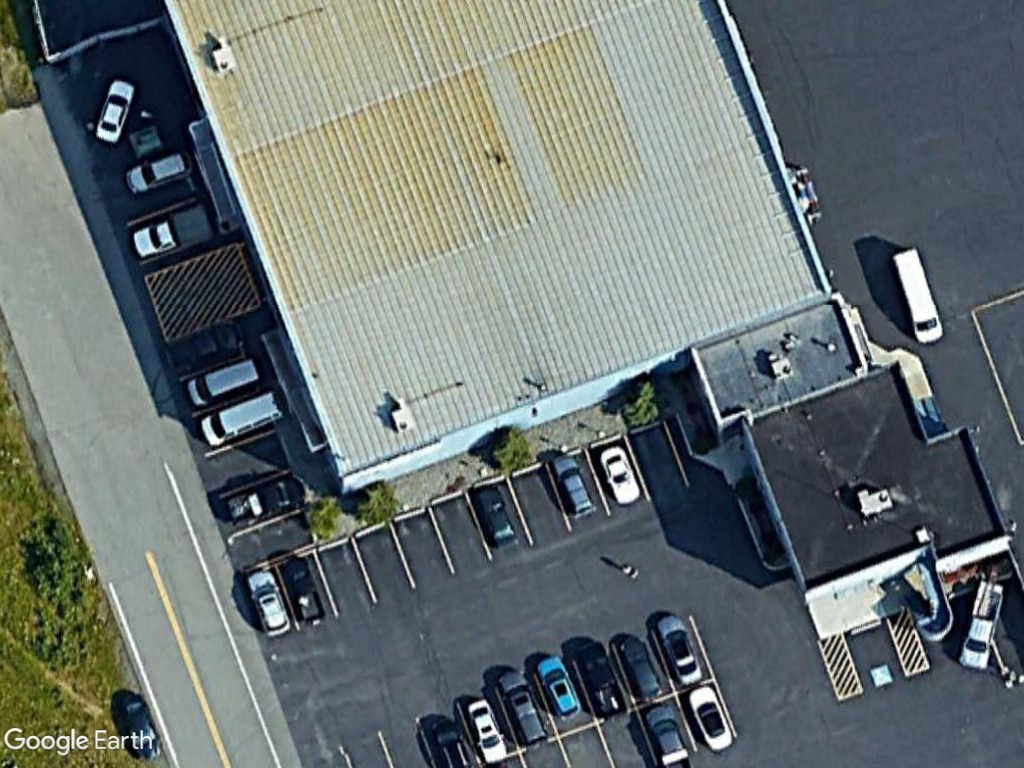car: (652, 611, 706, 691), (534, 651, 585, 725), (684, 683, 735, 755), (244, 562, 290, 641), (124, 145, 195, 195), (614, 630, 661, 703), (90, 73, 135, 145), (551, 450, 596, 522), (465, 695, 509, 768)
other: (954, 579, 1006, 675)
van: (887, 236, 944, 346), (198, 385, 287, 452), (186, 348, 264, 410), (496, 667, 552, 748)
